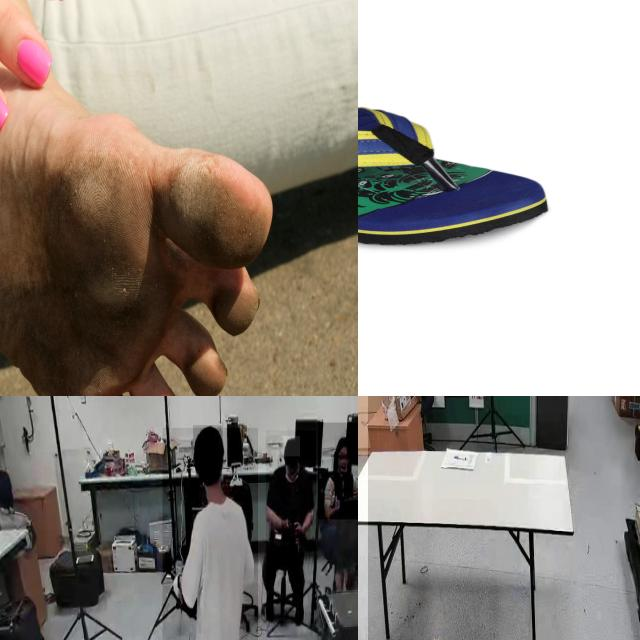Barefoots: (0, 91, 273, 396)
Sandals: (358, 104, 550, 248)
face_nomask: (336, 449, 348, 472)
hand_noglove: (288, 519, 303, 539), (282, 515, 292, 536)
head_nohelmet: (193, 425, 223, 451), (282, 436, 300, 457), (335, 436, 351, 448)
person: (162, 428, 258, 640), (266, 430, 316, 624), (318, 422, 358, 520)
